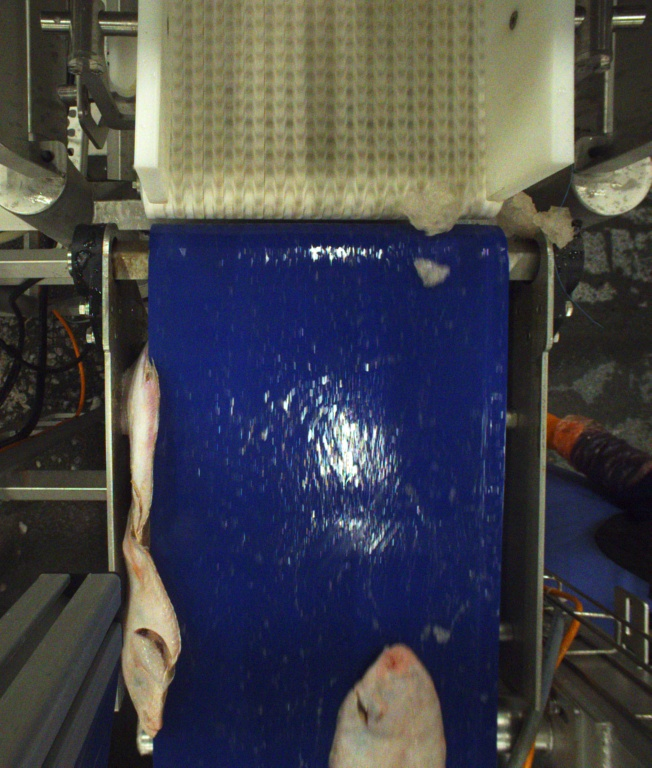SOL: (325, 636, 451, 768)
